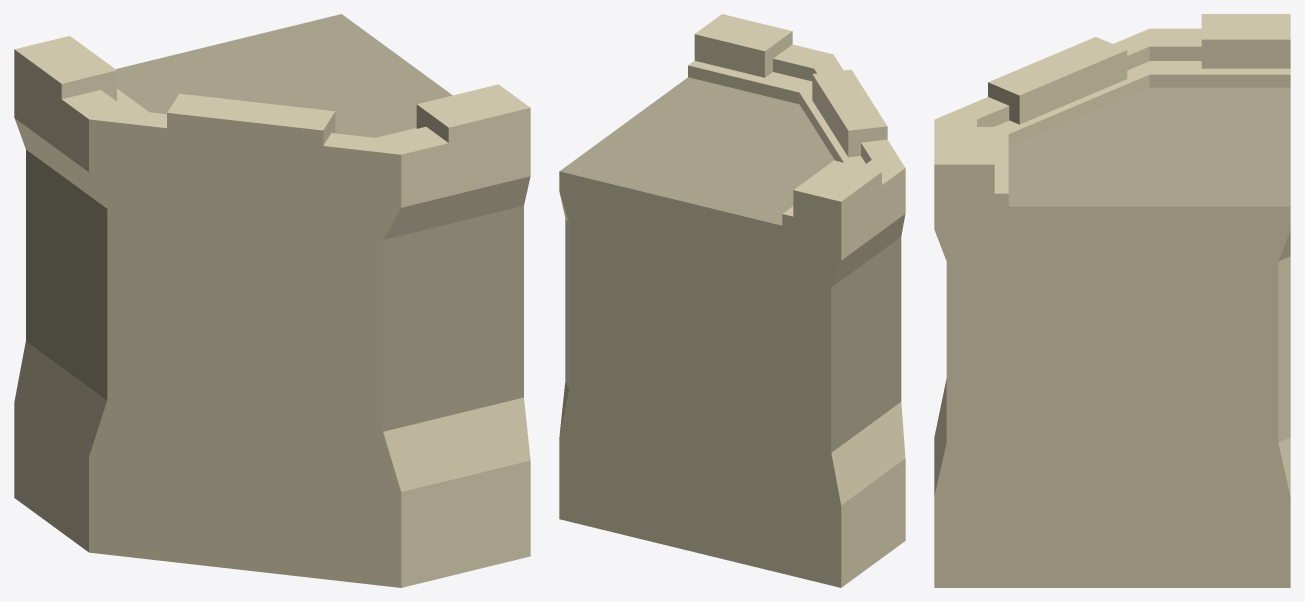
The model's file is wallCornerSlant_exclusive.fbx.
3 renders of one model, left to right at view 1: azimuth 30°, elevation 25°; view 2: azimuth 150°, elevation 25°; view 3: azimuth 270°, elevation 25°, orthographic. The views are drawn at different scales.
Parts seen in each view (by area): view 1: wallCornerSlant_exclusive; view 2: wallCornerSlant_exclusive; view 3: wallCornerSlant_exclusive.
Part boxes in pixels (x1,y1,x2,y2): wallCornerSlant_exclusive: (14,14,530,587); wallCornerSlant_exclusive: (559,14,905,587); wallCornerSlant_exclusive: (934,14,1290,587).
Bounding box in the file's own units: 10 × 13.1 × 10.
